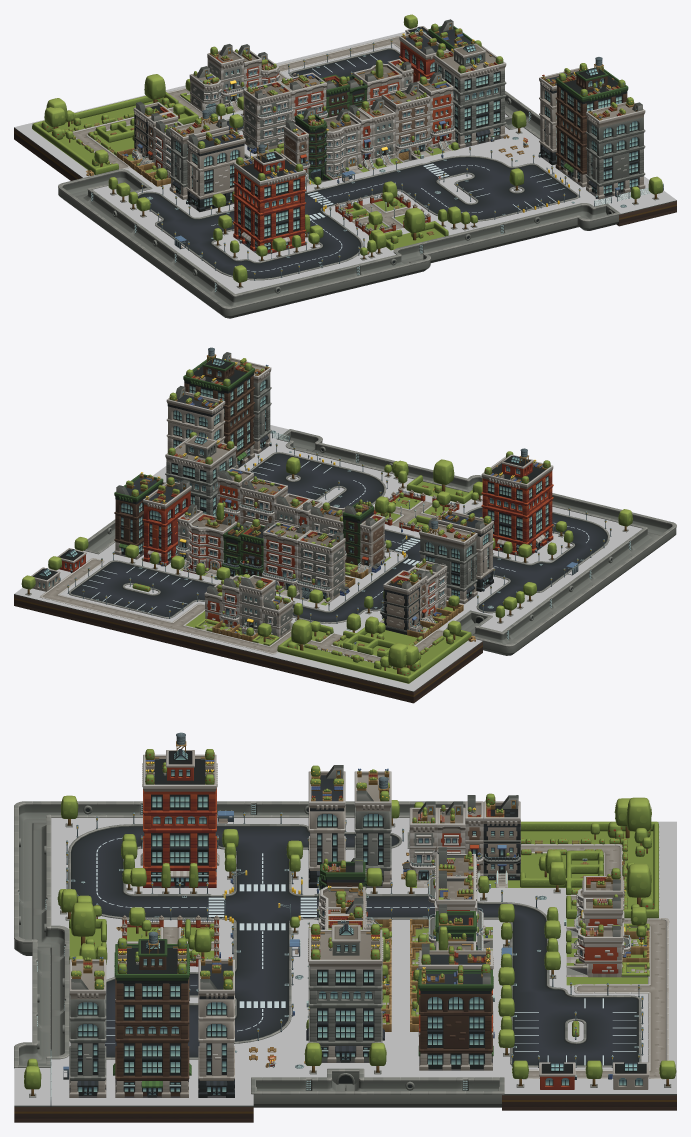
File: city.fbx
3 views of the same model, one above another, from view 1: azimuth 30°, elevation 25°; view 2: azimuth 150°, elevation 25°; view 3: azimuth 270°, elevation 25° (orthographic). The views are drawn at different scales.
Parts seen in each view (by area): view 1: city_sample_streets, city_sample_houses_1, city_sample_houses_2, city_sample_canals, city_sample_floor, city_sample_houses_3, city_sample_earth; view 2: city_sample_houses_1, city_sample_houses_2, city_sample_streets, city_sample_floor, city_sample_canals, city_sample_houses_3, city_sample_earth; view 3: city_sample_streets, city_sample_houses_1, city_sample_floor, city_sample_houses_2, city_sample_houses_3, city_sample_canals, city_sample_earth.
Part boxes in pixels (x1=…): city_sample_streets: x1=108, y1=39, x2=663, y2=288; city_sample_houses_1: x1=32, y1=14, x2=429, y2=254; city_sample_houses_2: x1=242, y1=19, x2=509, y2=186; city_sample_canals: x1=58, y1=91, x2=620, y2=318; city_sample_floor: x1=14, y1=31, x2=676, y2=293; city_sample_houses_3: x1=538, y1=57, x2=645, y2=199; city_sample_earth: x1=14, y1=127, x2=676, y2=226; city_sample_houses_1: x1=21, y1=448, x2=553, y2=683; city_sample_houses_2: x1=114, y1=432, x2=390, y2=605; city_sample_streets: x1=67, y1=430, x2=632, y2=630; city_sample_floor: x1=14, y1=425, x2=642, y2=691; city_sample_canals: x1=84, y1=429, x2=676, y2=655; city_sample_houses_3: x1=166, y1=347, x2=271, y2=468; city_sample_earth: x1=14, y1=482, x2=482, y2=703; city_sample_streets: x1=24, y1=795, x2=643, y2=1106; city_sample_houses_1: x1=140, y1=732, x2=676, y2=1089; city_sample_floor: x1=14, y1=818, x2=676, y2=1105; city_sample_houses_2: x1=304, y1=847, x2=494, y2=1070; city_sample_houses_3: x1=63, y1=931, x2=234, y2=1097; city_sample_canals: x1=14, y1=801, x2=504, y2=1107; city_sample_earth: x1=14, y1=1094, x2=676, y2=1122.
Size of the model in its own units: 15612 by 4137 by 14405.
